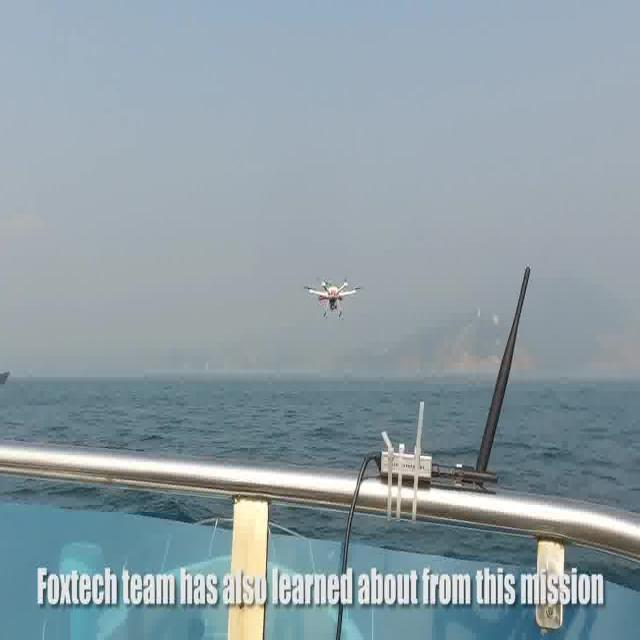Drone_FW: (306, 260, 372, 345)
